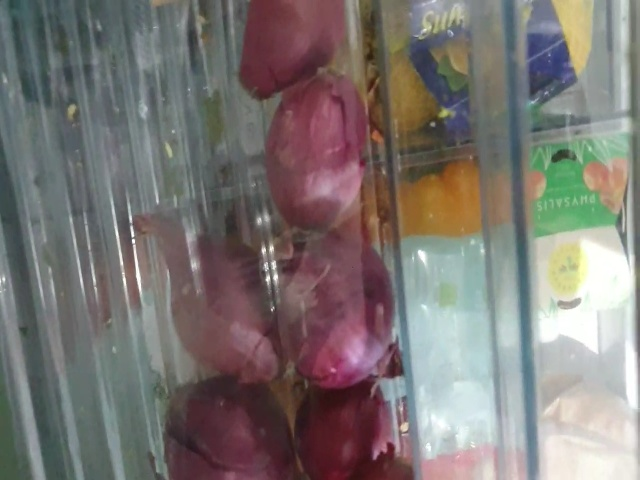red_onion: (143, 222, 283, 380), (280, 240, 399, 386), (267, 86, 366, 233), (150, 375, 293, 471), (226, 1, 341, 90), (297, 387, 410, 477)
